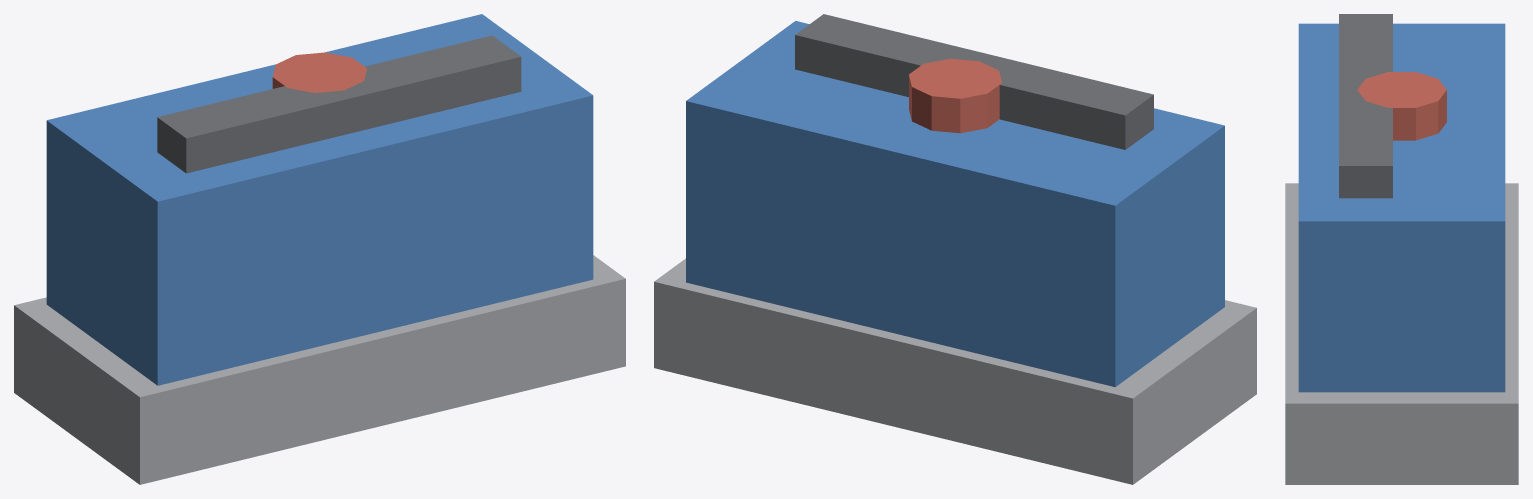
File: eld_ferro.glb
3 views of the same model, side by side, from view 1: azimuth 30°, elevation 25°; view 2: azimuth 150°, elevation 25°; view 3: azimuth 270°, elevation 25° (orthographic). The views are drawn at different scales.
Visible parts, largest first — view 1: ELD_FERRO_v01; view 2: ELD_FERRO_v01; view 3: ELD_FERRO_v01.
Boxes of the visible parts, box(x1,y1,x2,y2) form: ELD_FERRO_v01: box(14, 14, 625, 484); ELD_FERRO_v01: box(654, 14, 1256, 484); ELD_FERRO_v01: box(1285, 14, 1518, 484).
Size of the model in its own units: 0.29 by 0.175 by 0.13.
